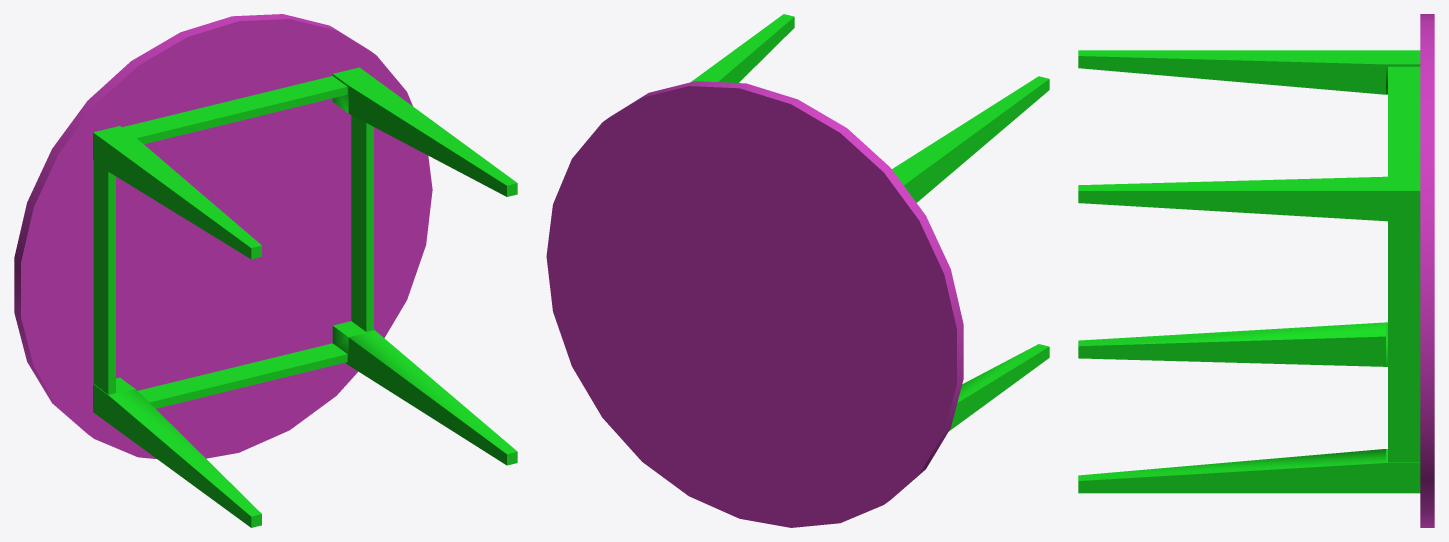
Rendered from kitchen_table_1.FBX.
3 renders of one model, left to right at view 1: azimuth 30°, elevation 25°; view 2: azimuth 150°, elevation 25°; view 3: azimuth 270°, elevation 25°, orthographic. The views are drawn at different scales.
Visible parts, largest first — view 1: cover; view 2: cover; view 3: cover.
Boxes of the visible parts, <box> form: cover: <box>14,14,517,527</box>; cover: <box>546,14,1049,527</box>; cover: <box>1078,14,1434,527</box>.
Bounding box in the file's own units: 108 × 109 × 75.14.
